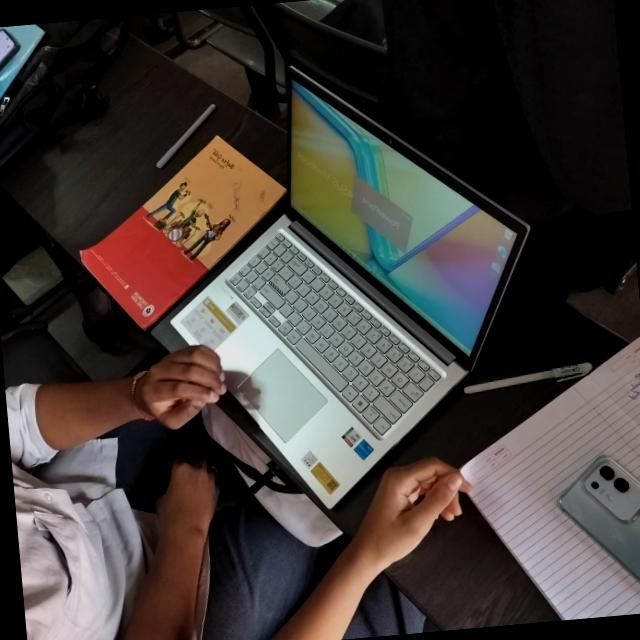laptop: (220, 48, 542, 557)
